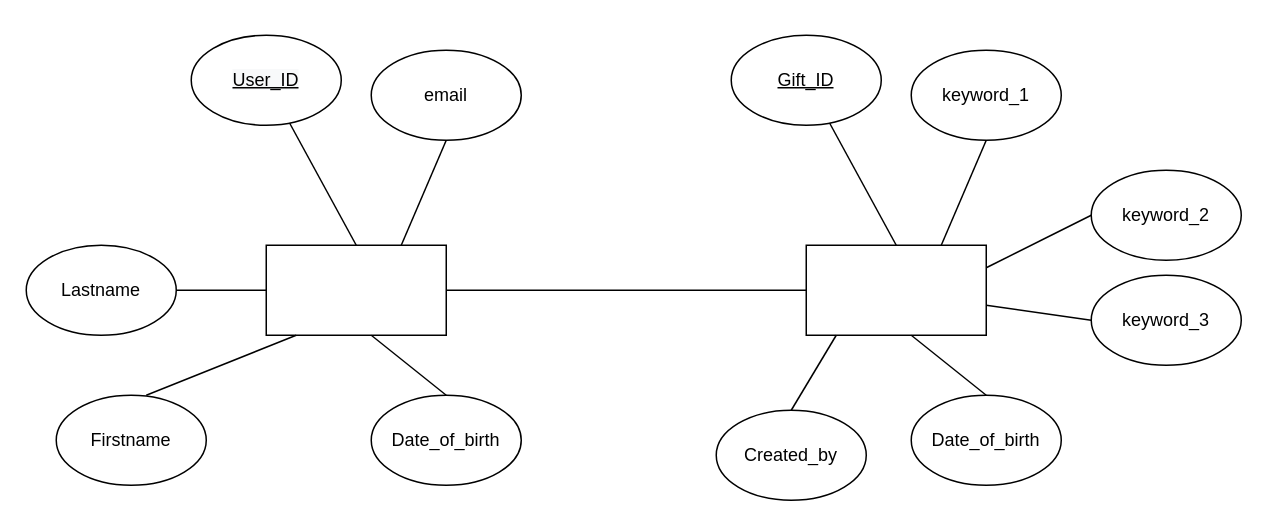
The diagram is 1268 pixels wide and 527 high, and some of its shapes have lost their labels. Here are the shapes that lost their labels. From the top down, the centre of each, then its label:
At point (355, 289): "Users".
At point (895, 289): "Gift_for".
